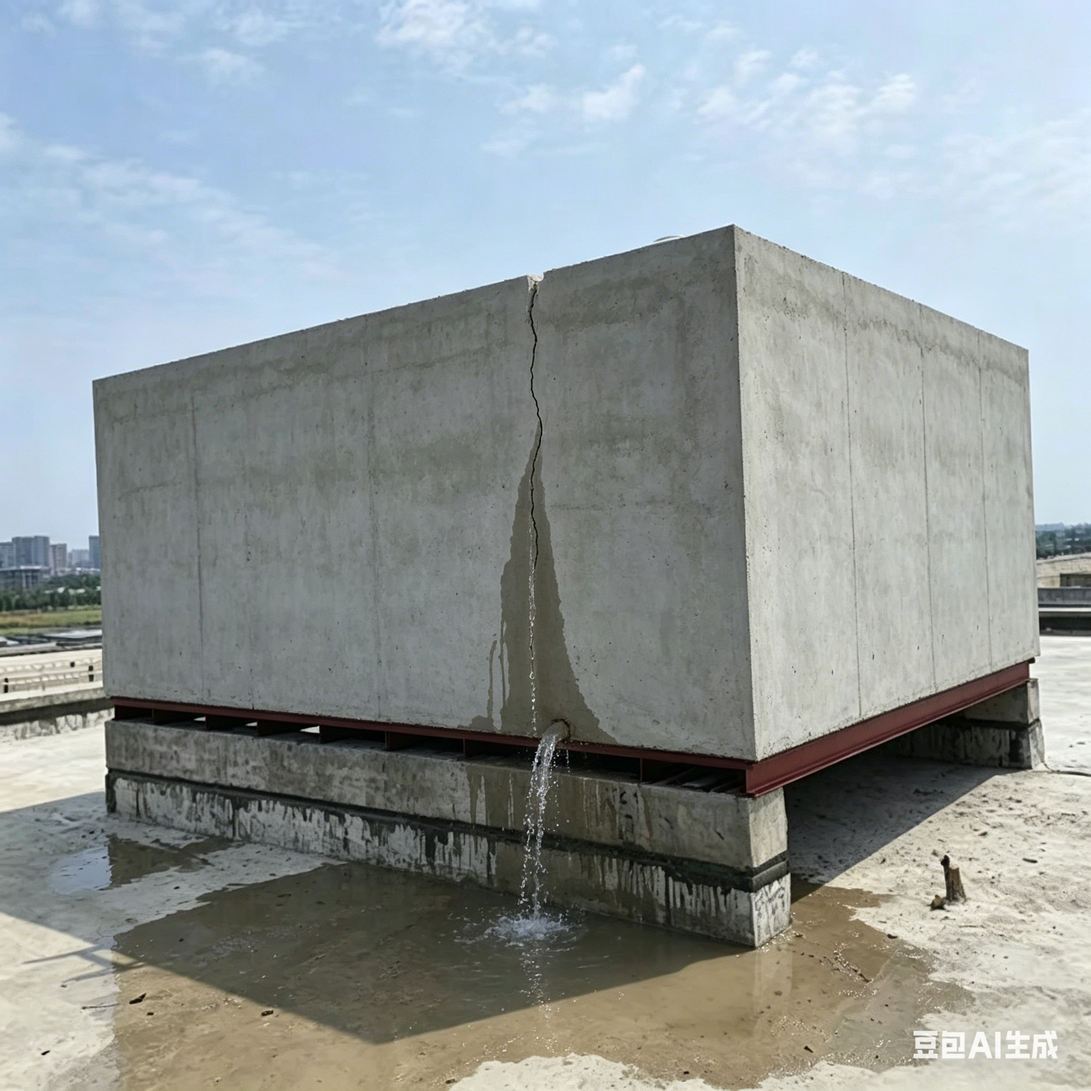Leakage: (594, 902, 943, 1071), (128, 925, 483, 1091), (489, 447, 576, 1067), (253, 874, 481, 915), (56, 824, 162, 898)
